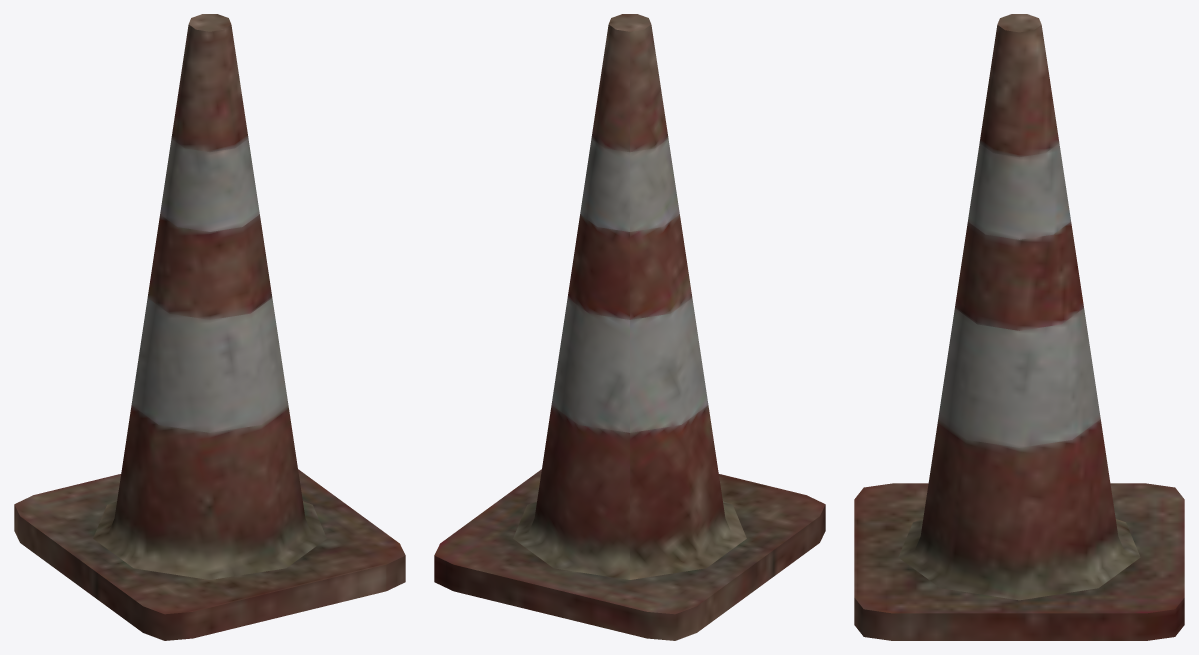
The model's file is RoadCone.FBX.
3 views of the same model, side by side, from view 1: azimuth 30°, elevation 25°; view 2: azimuth 150°, elevation 25°; view 3: azimuth 270°, elevation 25° (orthographic). The views are drawn at different scales.
Visible parts, largest first — view 1: RoadCone; view 2: RoadCone; view 3: RoadCone.
Boxes of the visible parts, x1=… form: RoadCone: x1=14, y1=14, x2=405, y2=640; RoadCone: x1=434, y1=14, x2=825, y2=640; RoadCone: x1=854, y1=14, x2=1184, y2=640.
Size of the model in its own units: 14.71 by 29.21 by 15.81.
